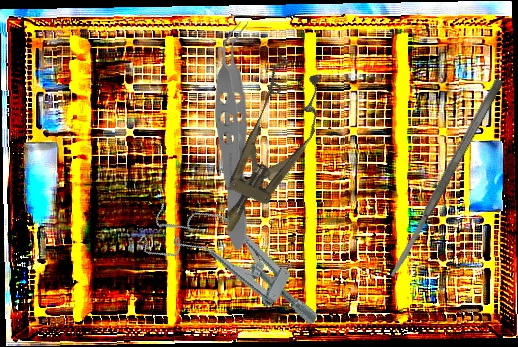Spatula Surgical: (386, 77, 506, 279)
Speculum: (134, 186, 338, 338), (198, 53, 339, 246)
Tissue Forceps: (211, 18, 258, 253)
